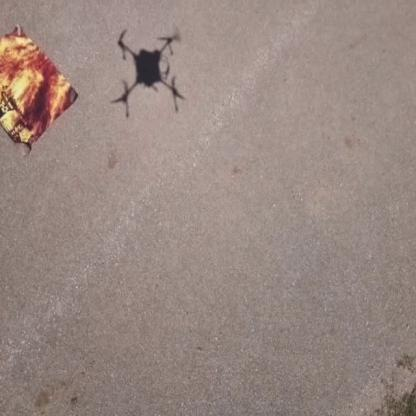fire-poster: (0, 23, 79, 156)
